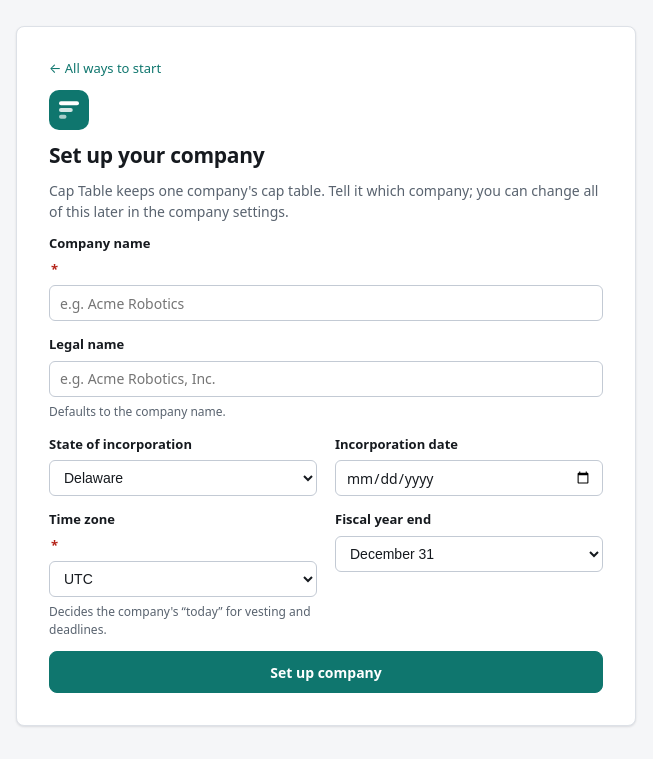
Scenario: first run: no company yet › checks the form before anything is sent
Click the button "Set up company".
click(326, 672)  # box [49,651,603,693]
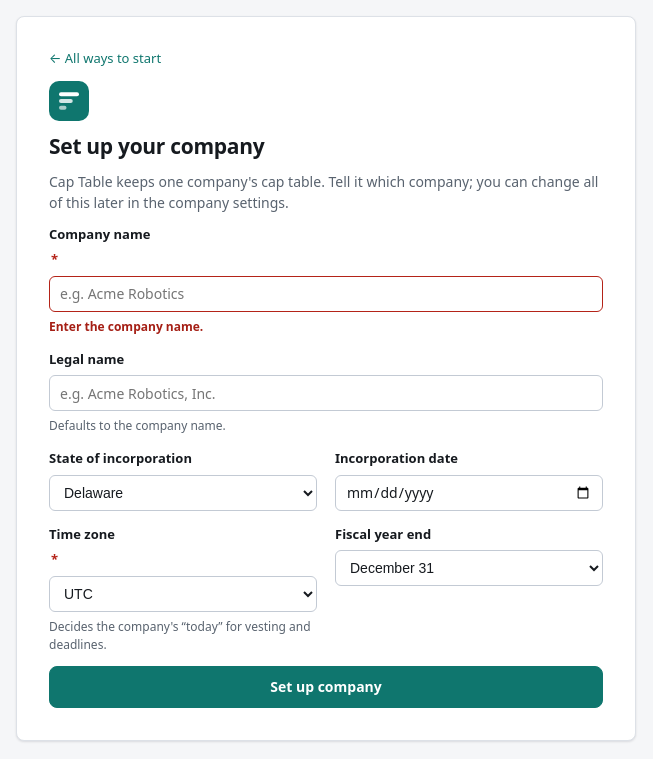
Expected: the text "Enter the company name." is shown, [49,318,203,335]
